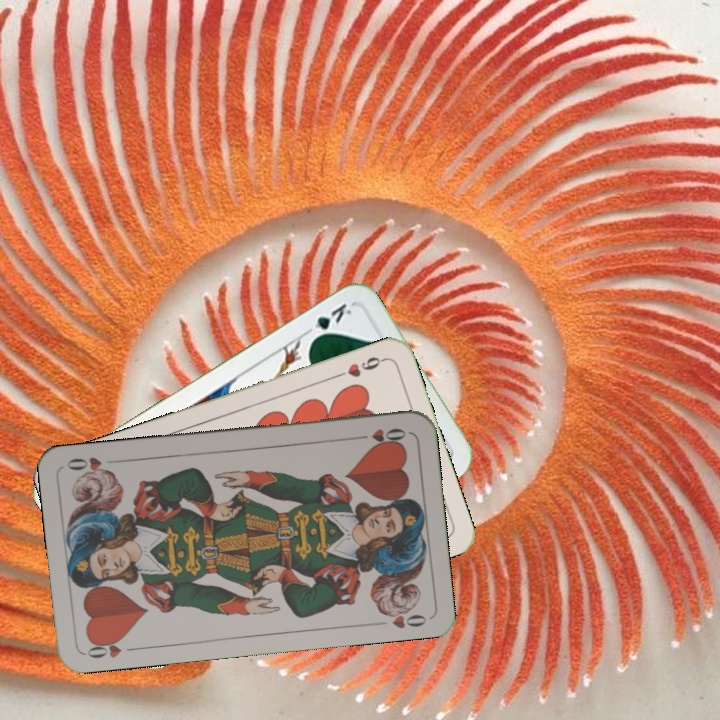GK: (301, 299, 355, 344)
H9: (331, 352, 388, 381)
HO: (83, 633, 141, 661), (351, 424, 408, 448)
